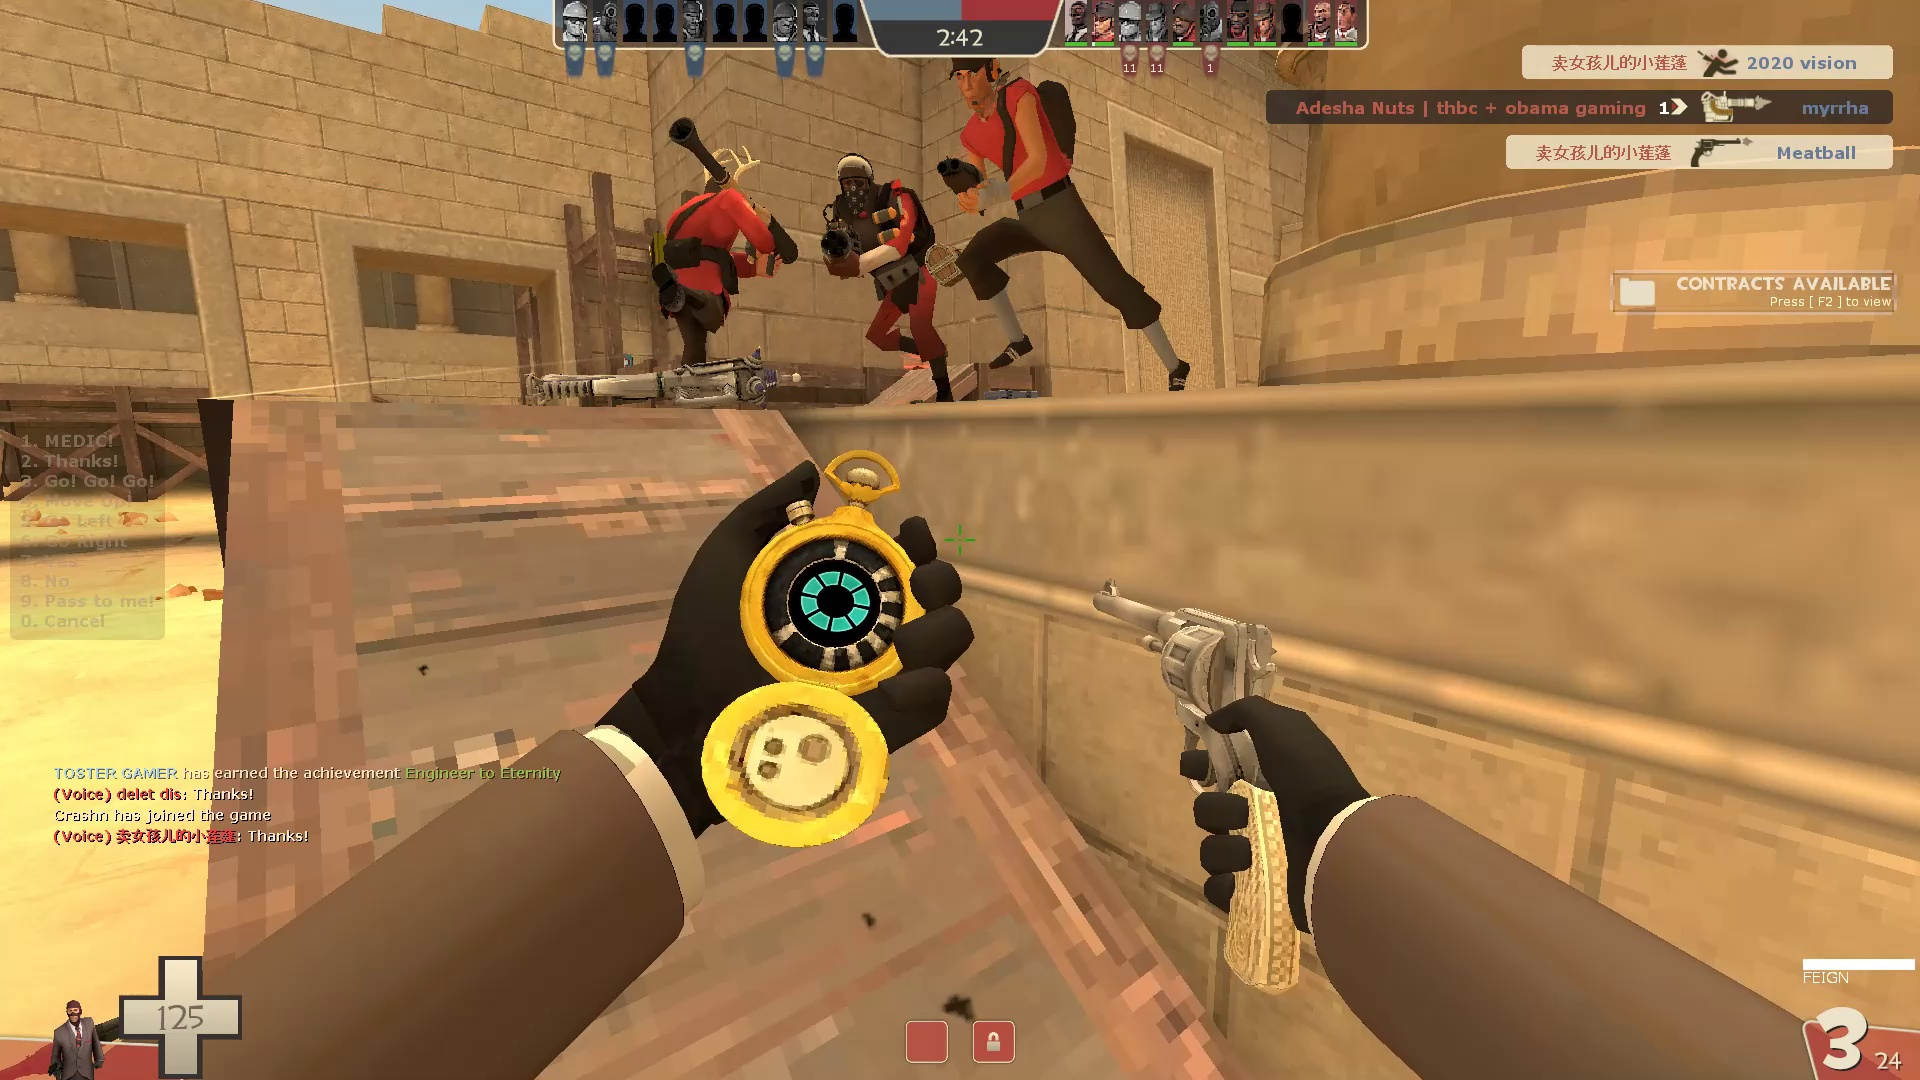red_demo: (811, 150, 968, 419)
red_scout: (938, 38, 1211, 425)
red_soldier: (644, 98, 808, 415)
red_teleporter_exit: (898, 348, 939, 373)
